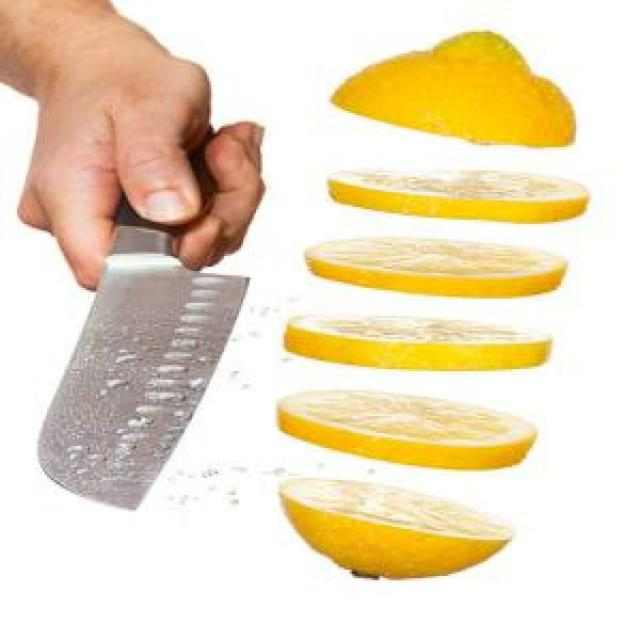knife: (36, 119, 252, 509)
